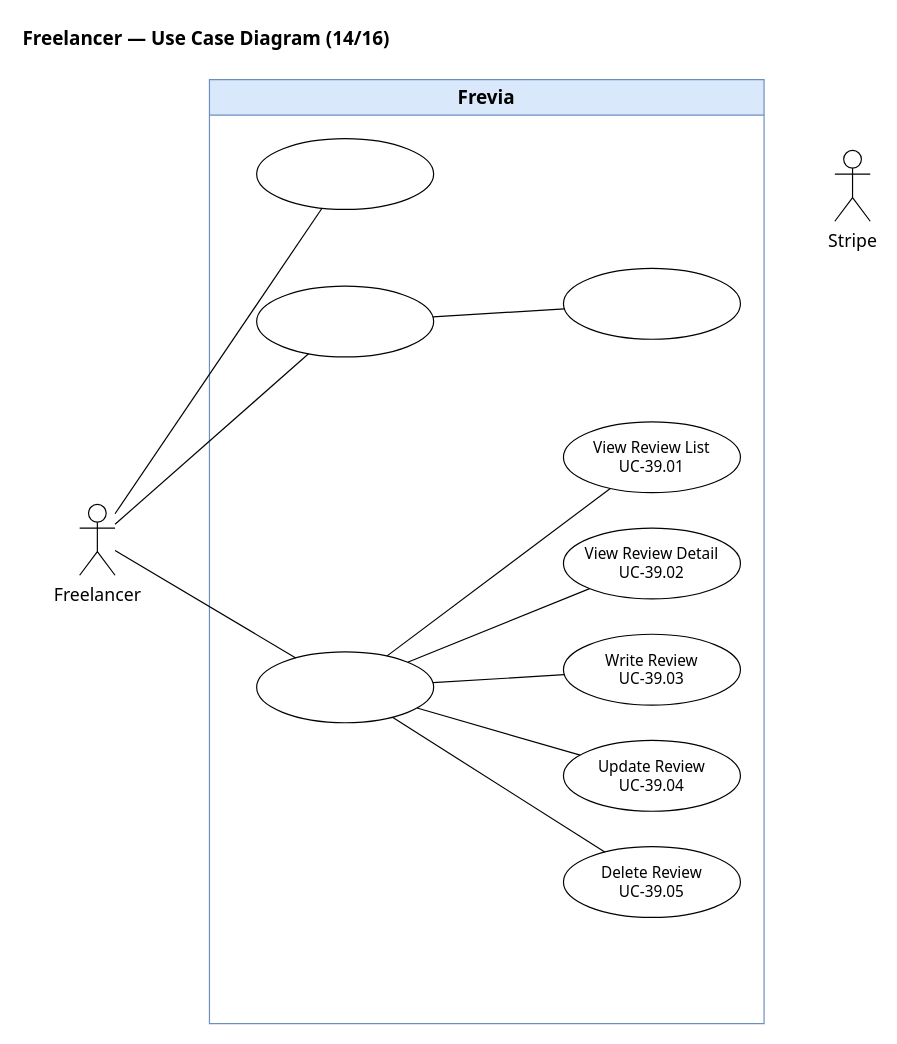
Some shapes in this 897 by 1044 pixel diagram are drawn without their labels. Here are the shapes that lost their labels. From the top down, the centre of each, then its label:
At pixel 344 173: "Respond to Dispute UC-33.04".
At pixel 344 321: "Dispute Management UC-33".
At pixel 651 303: "Respond to Dispute Resolution UC-33.05".
At pixel 344 687: "Review Management UC-39".
